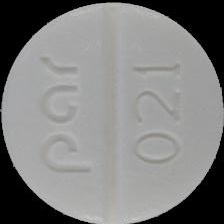63739-569: (0, 0, 224, 224)
